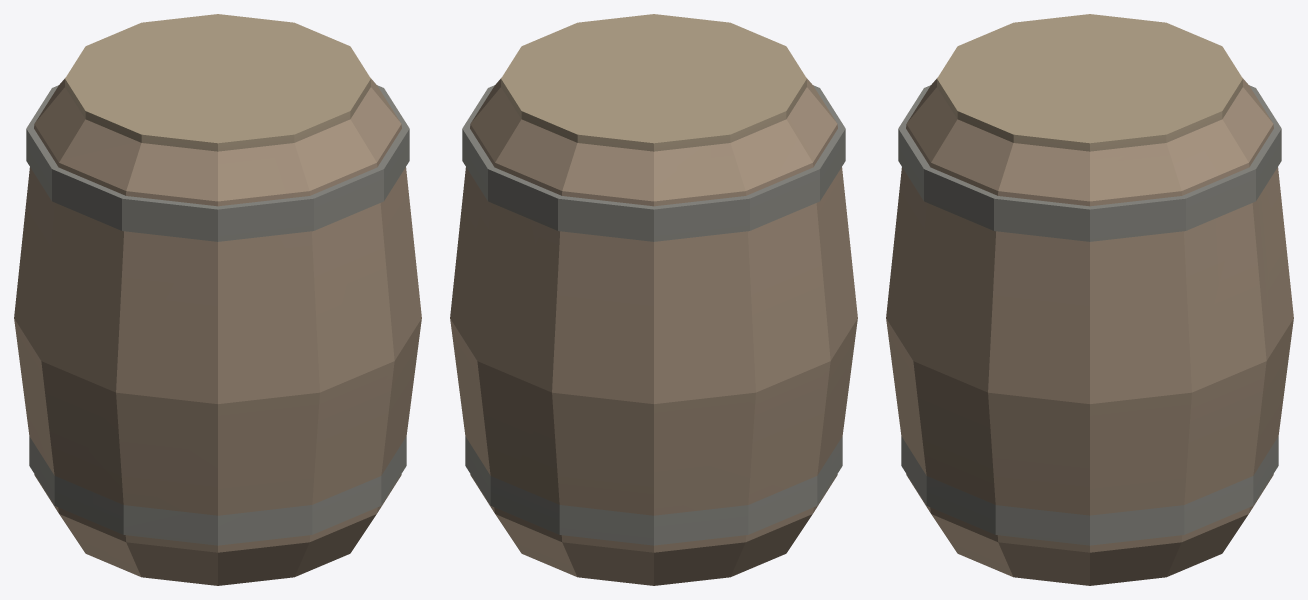
Rendered from SH_Barrel.glb.
3 views of the same model, side by side, from view 1: azimuth 30°, elevation 25°; view 2: azimuth 150°, elevation 25°; view 3: azimuth 270°, elevation 25° (orthographic).
Visible parts, largest first — view 1: Body; view 2: Body; view 3: Body.
Part boxes in pixels (x1=…): Body: x1=14, y1=14, x2=421, y2=585; Body: x1=450, y1=14, x2=857, y2=585; Body: x1=886, y1=14, x2=1293, y2=585.
Bounding box in the file's own units: 4 × 4.79 × 4.
